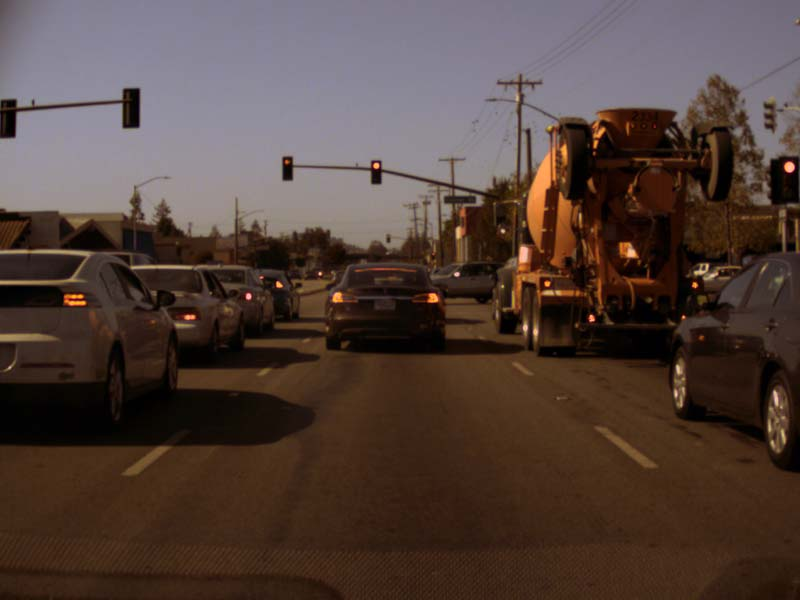Red: (778, 156, 799, 200), (371, 160, 381, 184), (282, 156, 289, 180)
